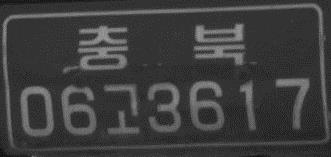0: (20, 85, 55, 139)
1: (238, 77, 260, 133)
3: (145, 80, 182, 136)
6: (58, 81, 98, 137), (188, 78, 225, 133)
7: (272, 76, 312, 132)
고: (101, 80, 142, 138)
충북_D: (76, 21, 248, 71)
